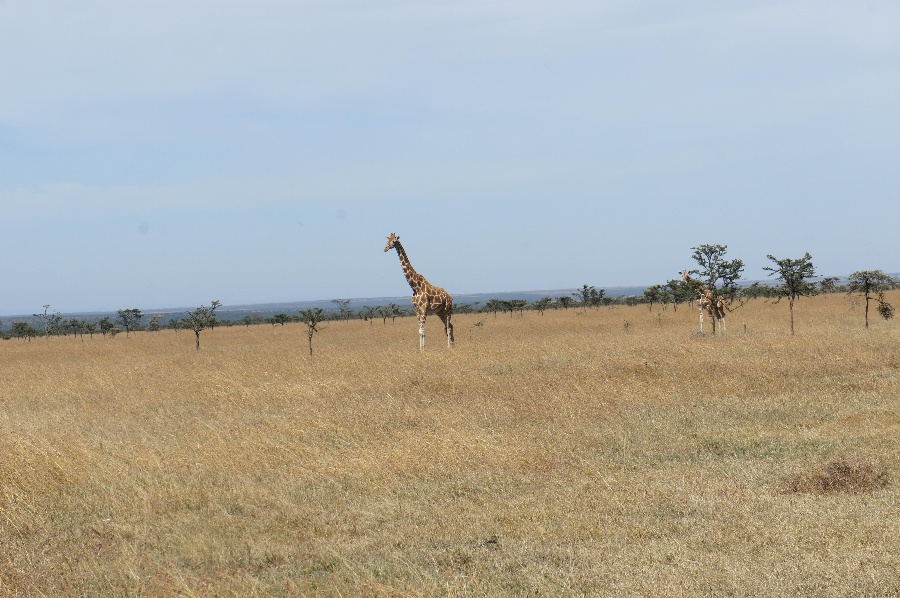giraffe: (381, 228, 462, 353), (671, 255, 733, 343)
